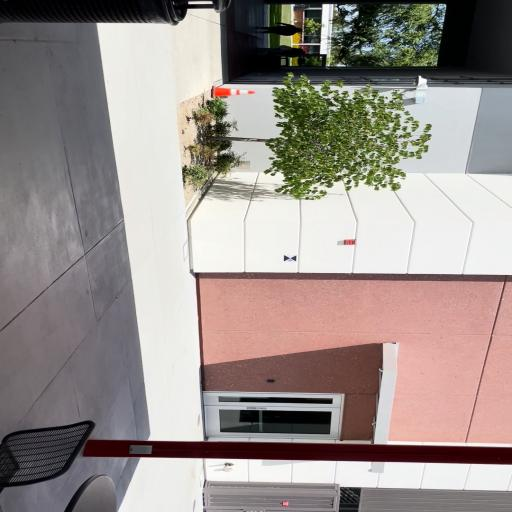target6: (283, 255, 297, 262)
